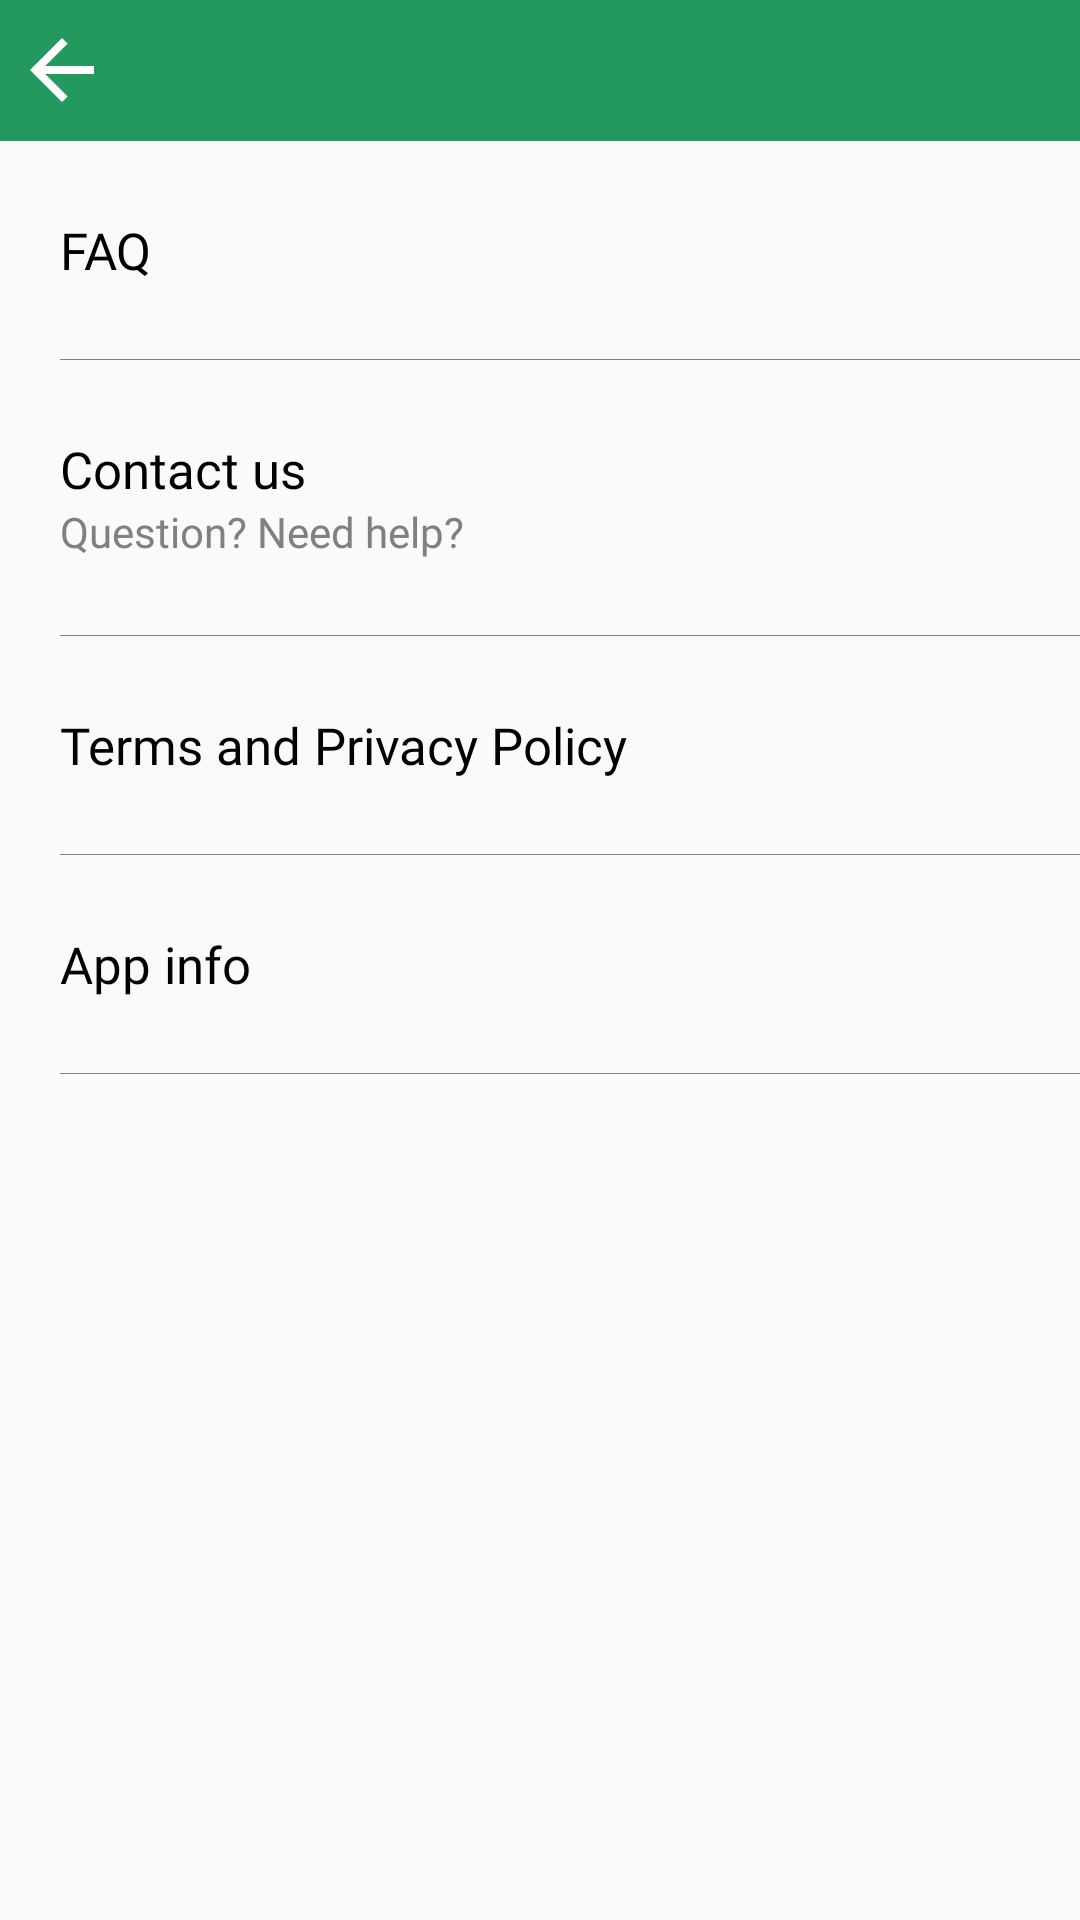

Point at icon controls on the screen. Image size 1080w x 1920h, points as (x,y).
back arrow: (62,70)
